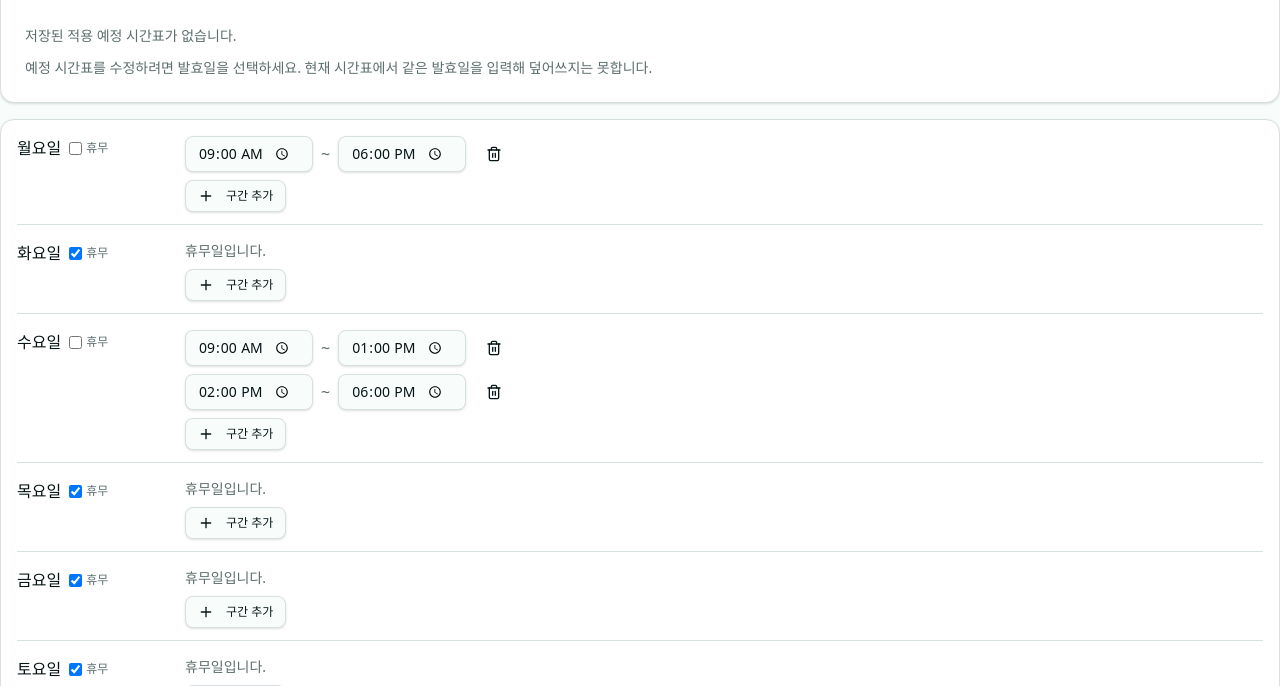
Test: StaffOperatingHoursPage › 휴무를 체크했다 풀면 원래 구간을 되살린다
(page scrolled)
Click the checkbox labelled "휴무" next to "수요일" at (76, 342), box [69, 336, 82, 348]
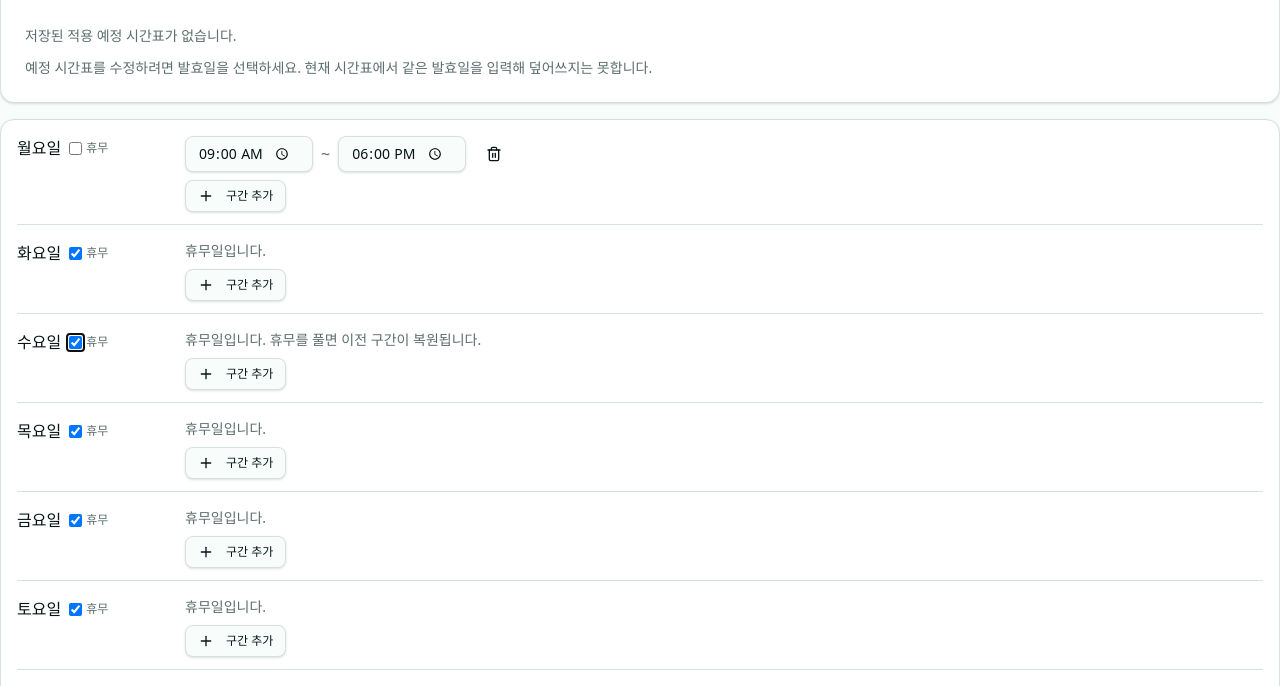
Expected: the text "휴무일입니다. 휴무를 풀면 이전 구간이 복원됩니다." is shown, [185, 330, 481, 349]
Click the checkbox labelled "휴무" next to "수요일" at (76, 342), box [69, 336, 82, 348]
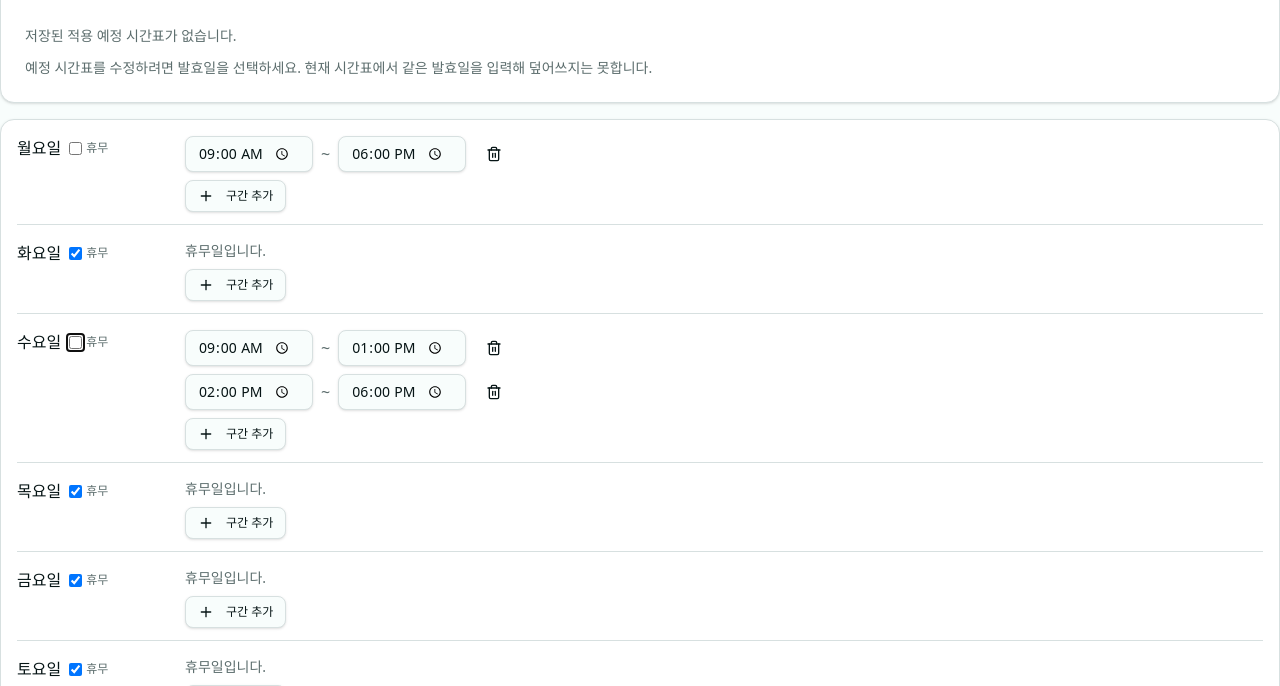
Expected: the time field named "수요일 1번째 구간 시작 시각" holds "09:00", [185, 330, 313, 366]
Expected: the time field named "수요일 1번째 구간 종료 시각" holds "13:00", [338, 330, 466, 366]
Expected: the time field named "수요일 2번째 구간 시작 시각" holds "14:00", [185, 374, 313, 410]
